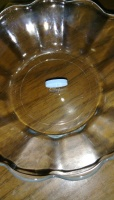Majezik: (44, 78, 69, 88)
